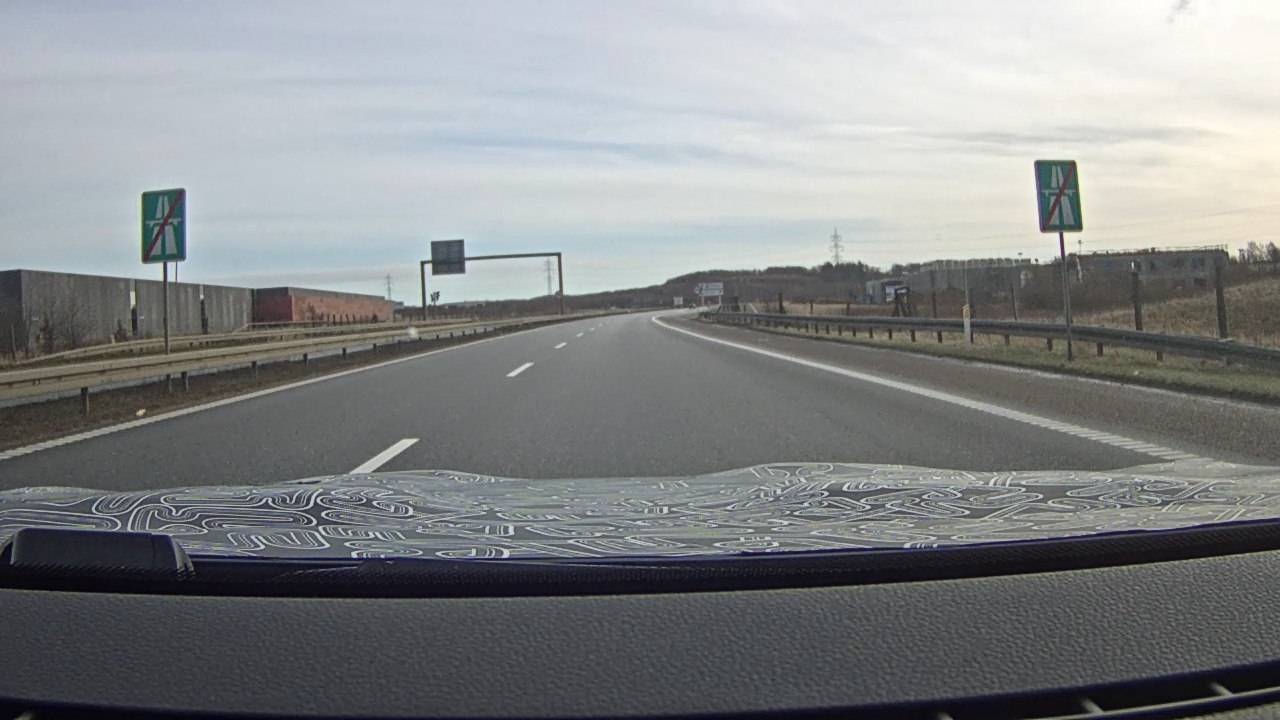Regular_End_Of_Motorway: (1033, 159, 1084, 234), (141, 188, 186, 264)
